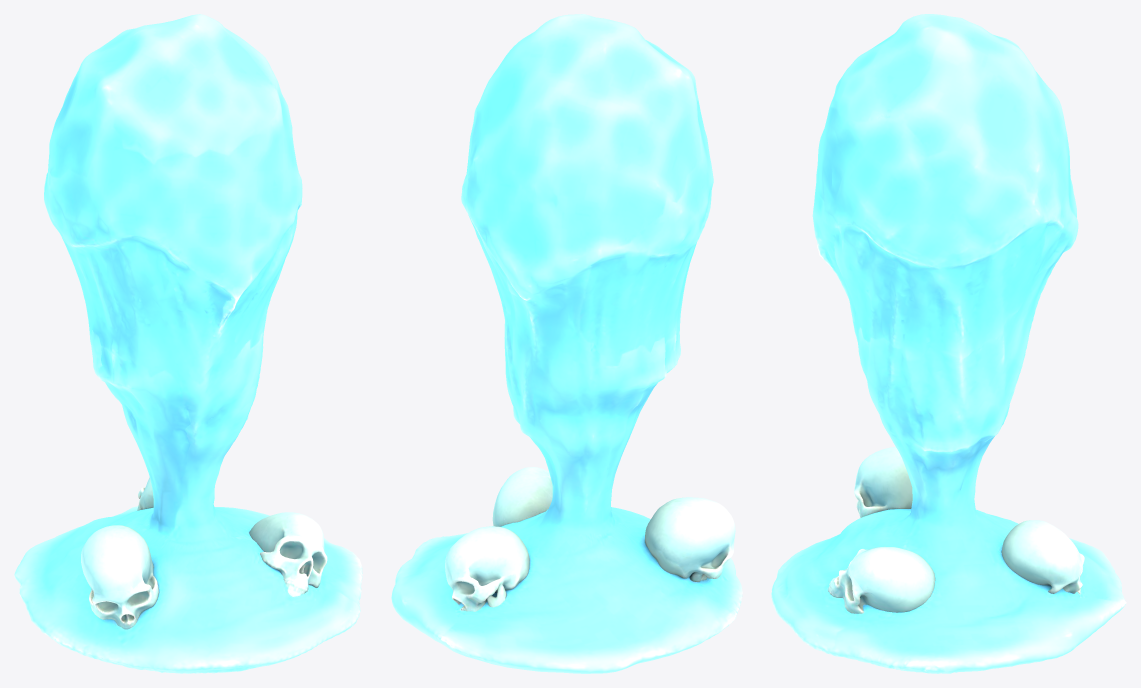
File: MZ4250 - Auril (Third Form).glb
3 renders of one model, left to right at view 1: azimuth 30°, elevation 25°; view 2: azimuth 150°, elevation 25°; view 3: azimuth 270°, elevation 25°, orthographic.
Visible parts, largest first — view 1: ORGANIC BASE SPHERE.004; view 2: ORGANIC BASE SPHERE.004; view 3: ORGANIC BASE SPHERE.004.
Part boxes in pixels (<box>): ORGANIC BASE SPHERE.004: <box>14,14,362,673</box>; ORGANIC BASE SPHERE.004: <box>391,14,742,673</box>; ORGANIC BASE SPHERE.004: <box>771,14,1126,673</box>.
Size of the model in its own units: 16.55 by 30.27 by 16.85.
1 material, 1 textured.
